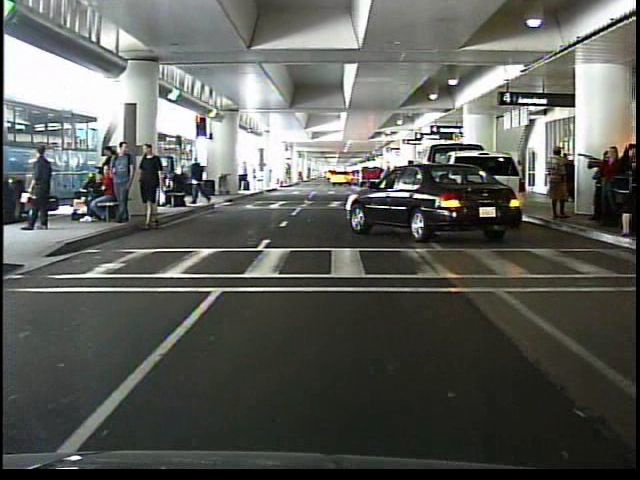person: (28, 140, 61, 236), (546, 146, 571, 223), (189, 156, 216, 209), (163, 164, 191, 209), (514, 157, 532, 203)
